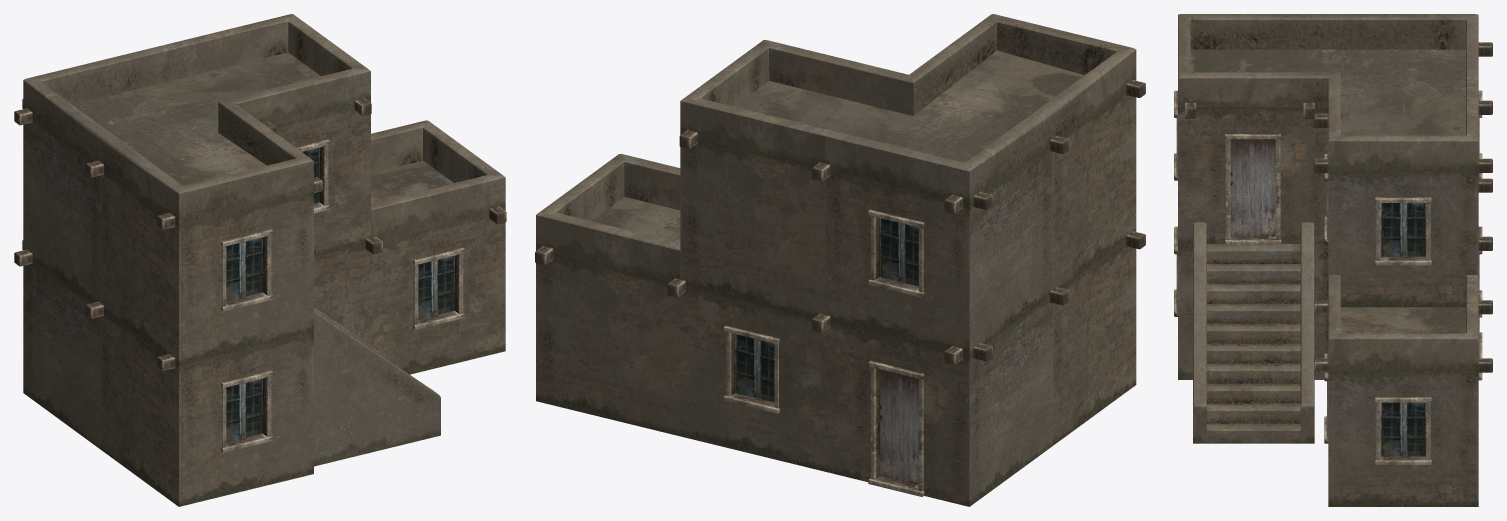
The model's file is House2.fbx.
3 renders of one model, left to right at view 1: azimuth 30°, elevation 25°; view 2: azimuth 150°, elevation 25°; view 3: azimuth 270°, elevation 25°, orthographic. The views are drawn at different scales.
Visible parts, largest first — view 1: pCube44; view 2: pCube44; view 3: pCube44.
Part boxes in pixels (<box>): pCube44: <box>14,14,506,506</box>; pCube44: <box>535,14,1145,506</box>; pCube44: <box>1174,14,1492,506</box>.
Bounding box in the file's own units: 187 × 134 × 127.
